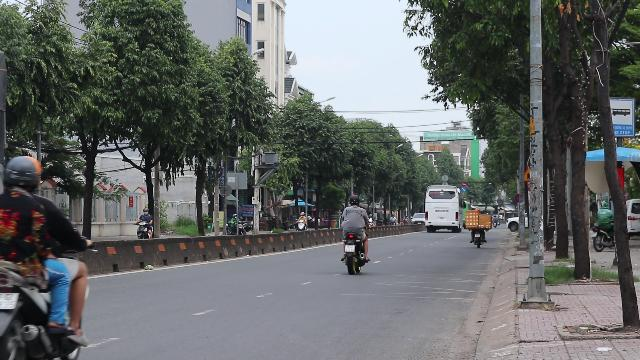helmet: (2, 154, 42, 194)
licenseplate: (0, 292, 16, 308)
motorcyclist: (0, 153, 92, 355)
